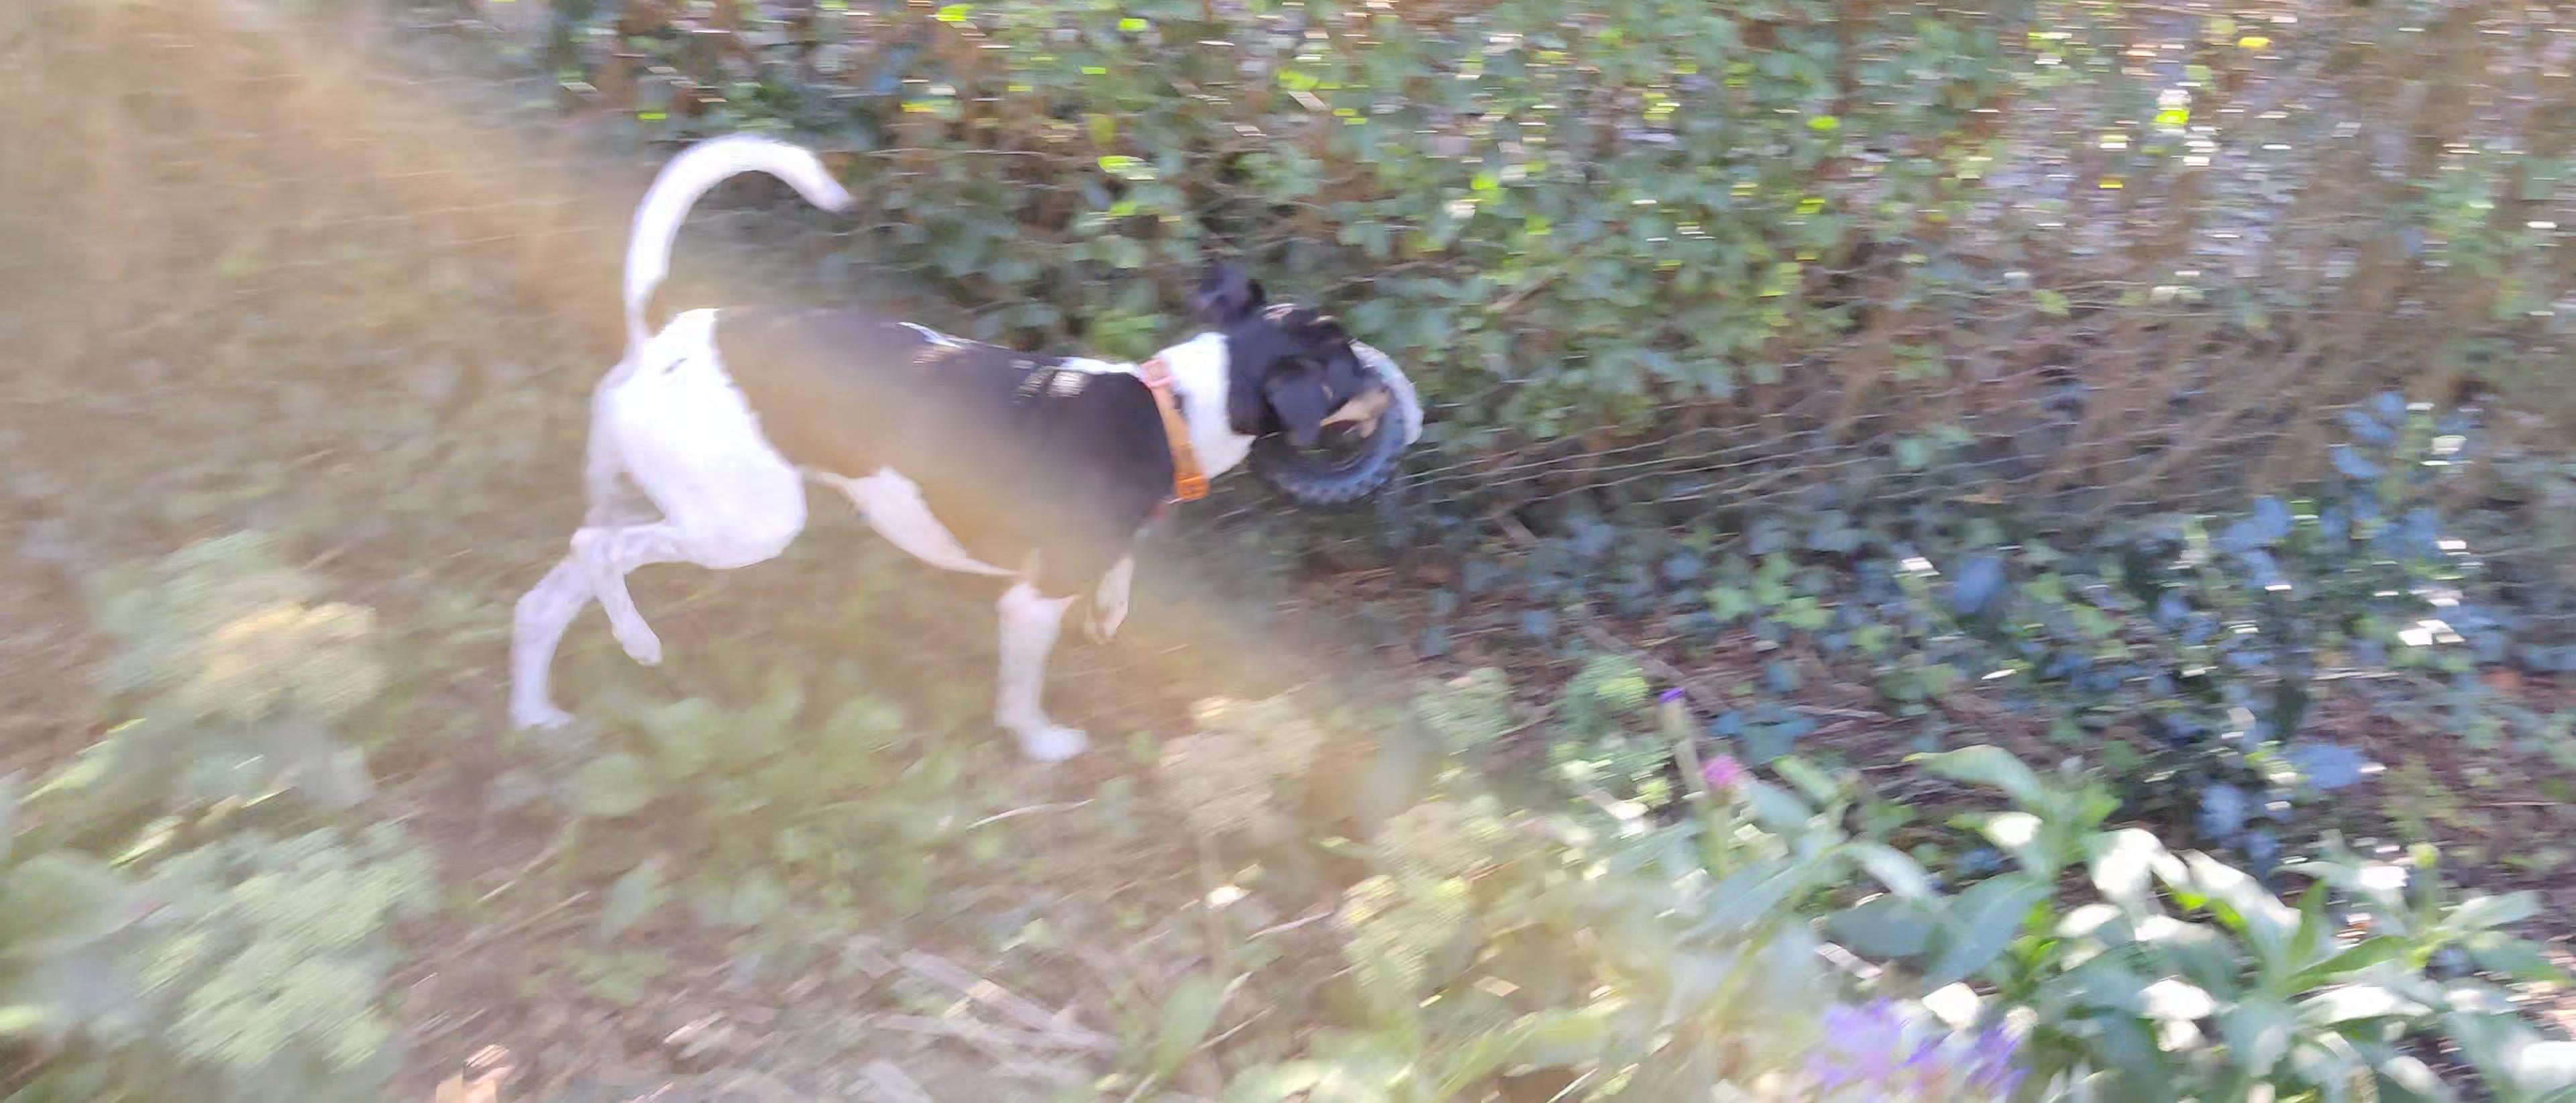Dog: (494, 128, 1395, 779)
